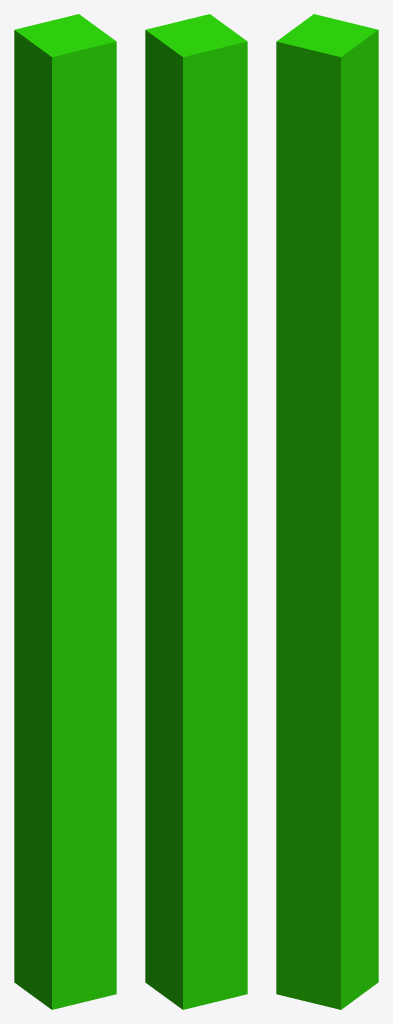
Rendered from S_01_Pillar_01.fbx.
3 renders of one model, left to right at view 1: azimuth 30°, elevation 25°; view 2: azimuth 210°, elevation 25°; view 3: azimuth 330°, elevation 25°, orthographic.
Parts seen in each view (by area): view 1: S_01_Pillar_01; view 2: S_01_Pillar_01; view 3: S_01_Pillar_01.
Part boxes in pixels (<box>): S_01_Pillar_01: <box>14,14,116,1009</box>; S_01_Pillar_01: <box>145,14,247,1009</box>; S_01_Pillar_01: <box>276,14,378,1009</box>.
Size of the model in its own units: 54.09 by 760 by 54.41.
